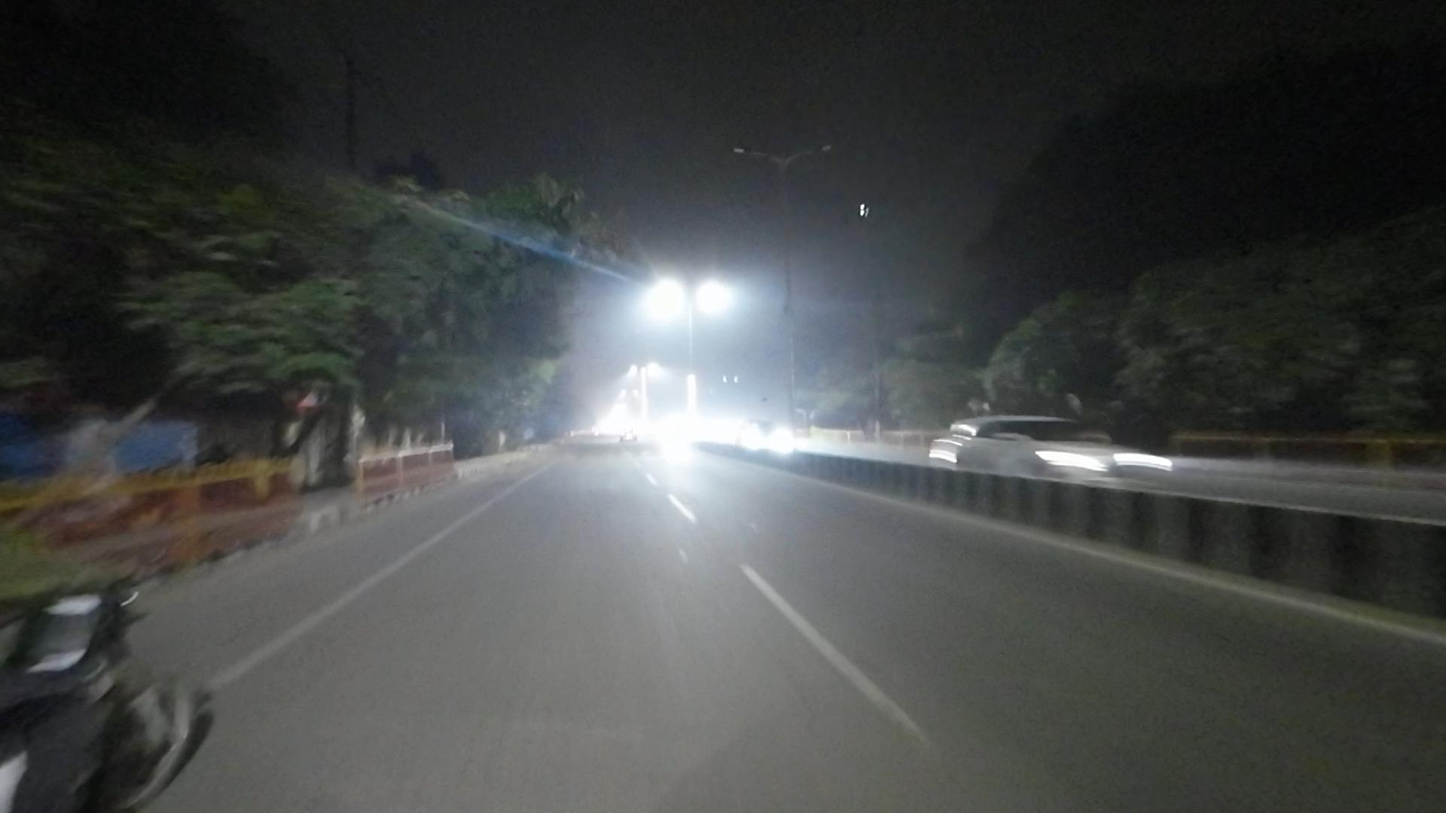streetlight: (727, 142, 781, 165), (790, 141, 833, 165)
